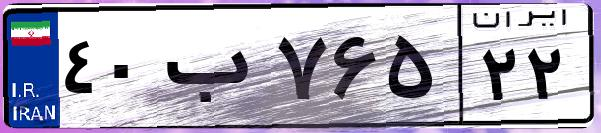0: (110, 28, 158, 98)
2: (475, 38, 525, 113), (525, 38, 570, 115)
4: (57, 26, 110, 100)
5: (385, 28, 445, 110)
6: (330, 28, 385, 110)
7: (270, 28, 330, 110)
ب: (158, 20, 270, 120)
